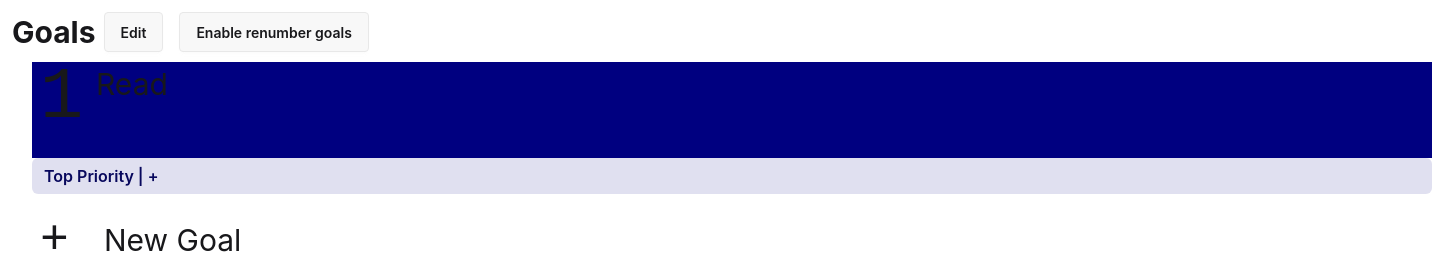
Test case: goal conflicts resync using the error code, not message text
Click the button "Edit" at (134, 32), box [104,12,163,52]
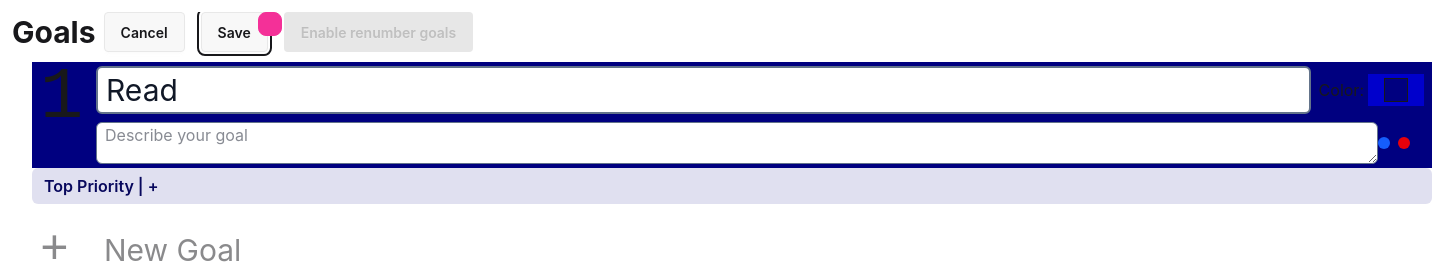
Click the button "Save" at (234, 32), box [201,12,268,52]
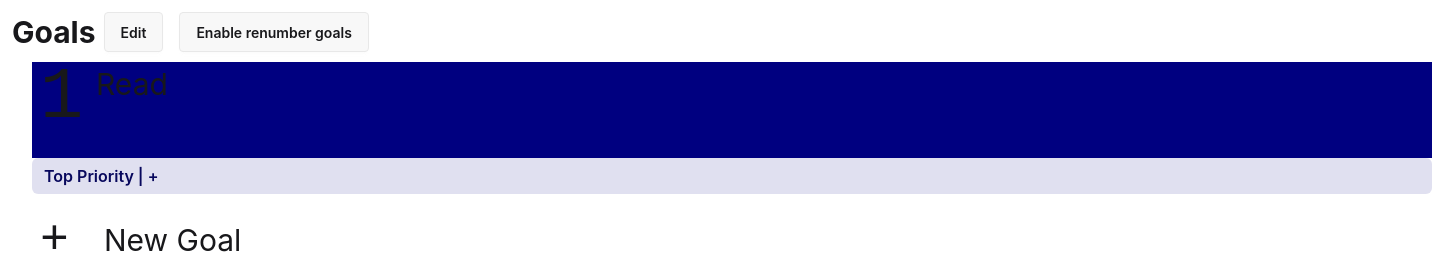
Now the button "Edit" is shown, box [104,12,163,52]
